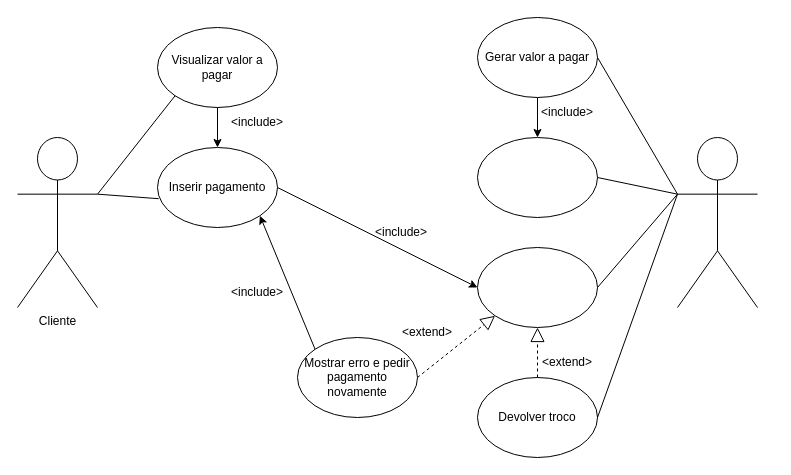
Some shapes in this 791 by 475 pixel diagram are drawn without their labels. The centre of each missing label's shape, as x and y in pixels:
"Mostrar valor a pagar" belongs at point 537,177.
"Máquina_pagamento" belongs at point 717,222.
"Validar pagamento" belongs at point 537,287.
